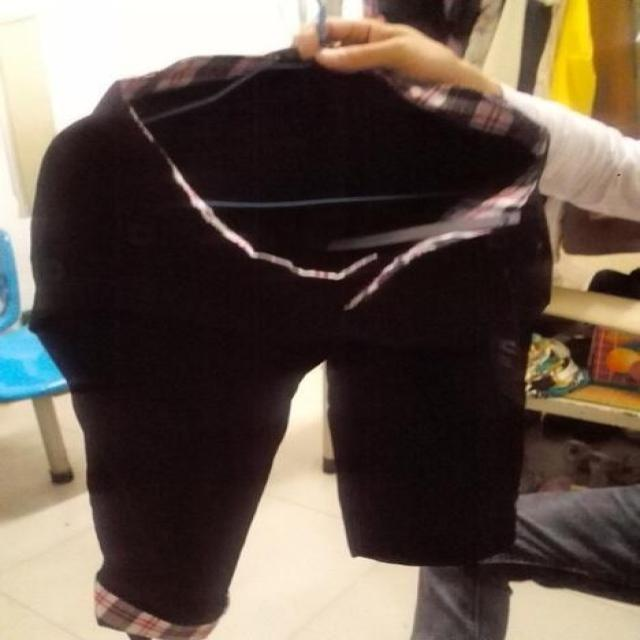shorts: (49, 56, 572, 640)
